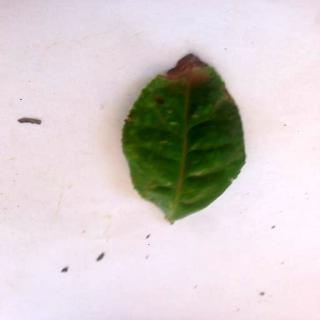Brown Blight: (123, 55, 248, 224)
